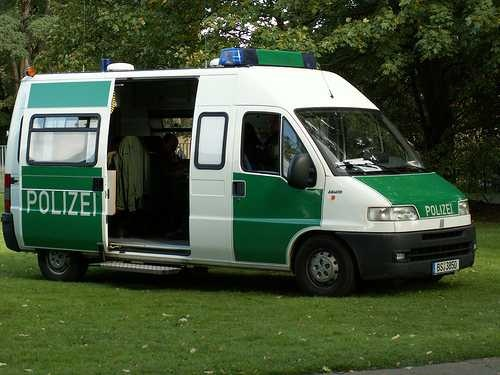Police Van: (4, 51, 478, 303)
